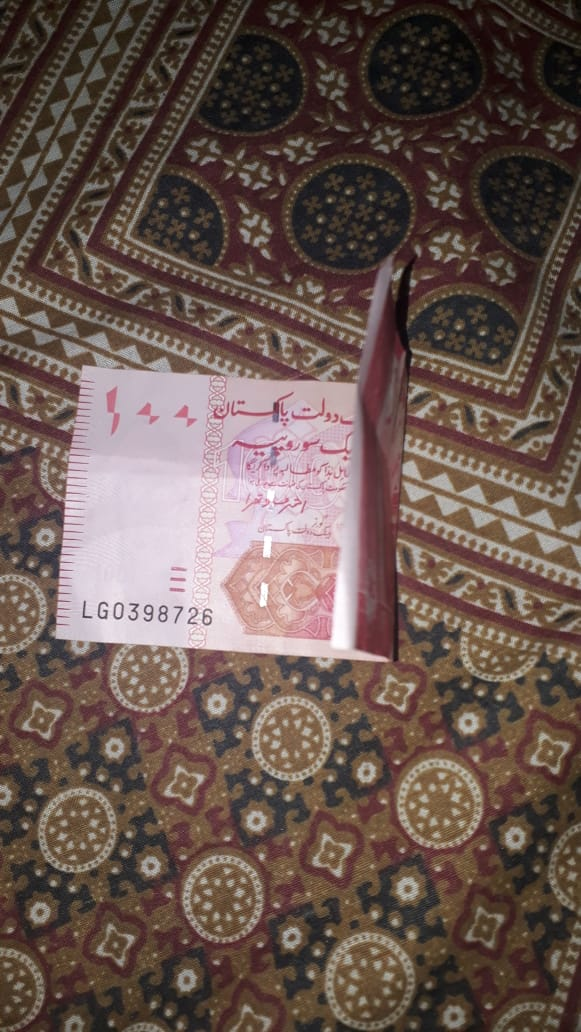100 rupee: (53, 253, 411, 672)
